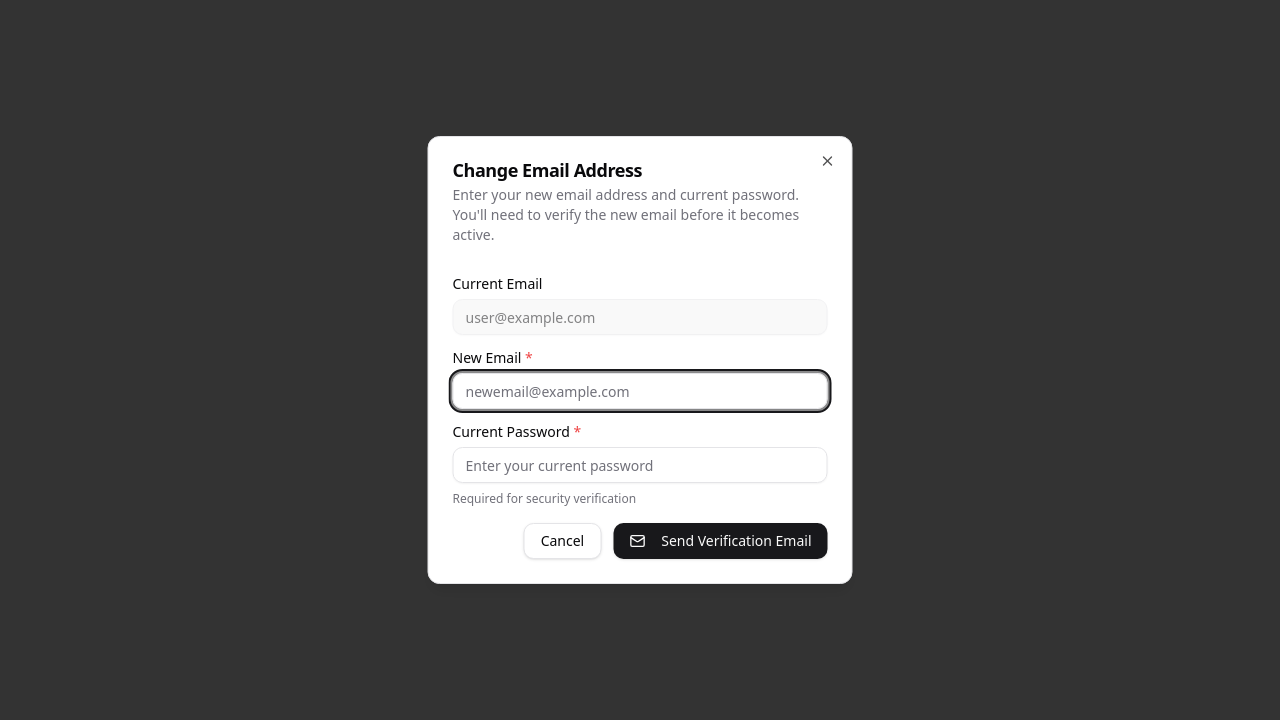
Test: ChangeEmailDialog › validates email format
In the field with id "new-email": (640, 391) [452,373,828,409], type "test@x"
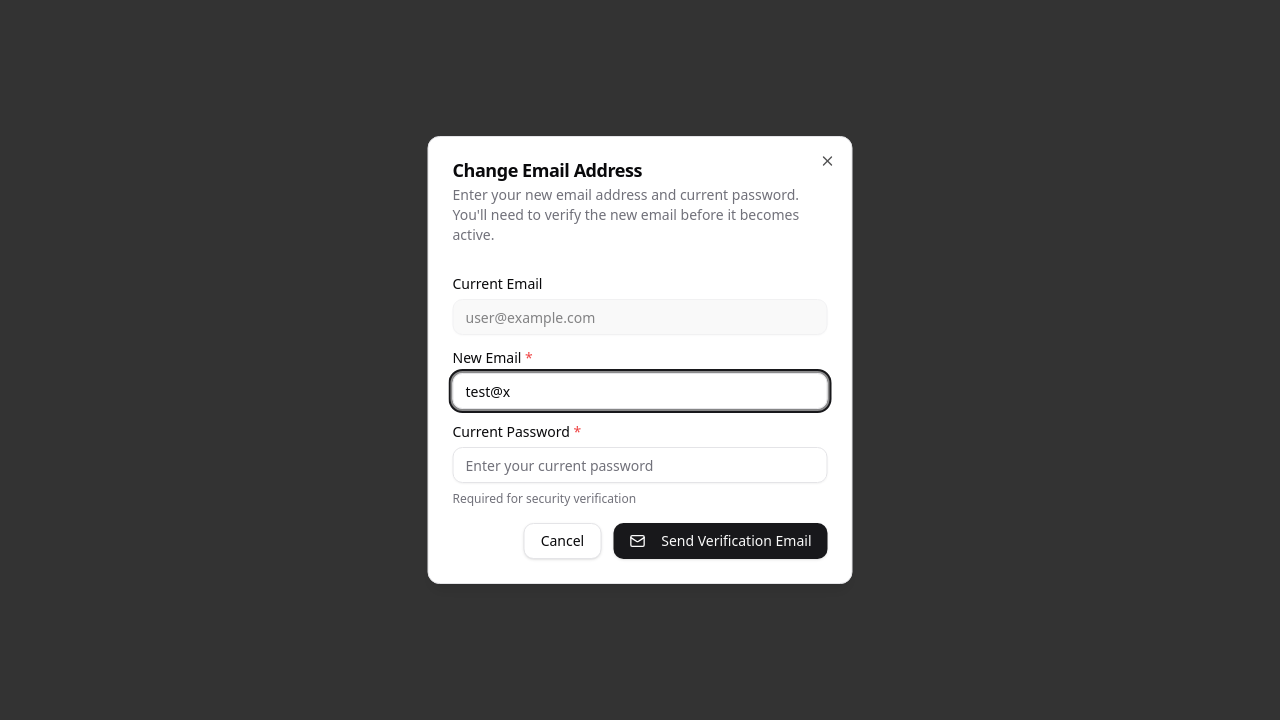
Click the button "Send Verification Email": (720, 541) [613,523,828,559]
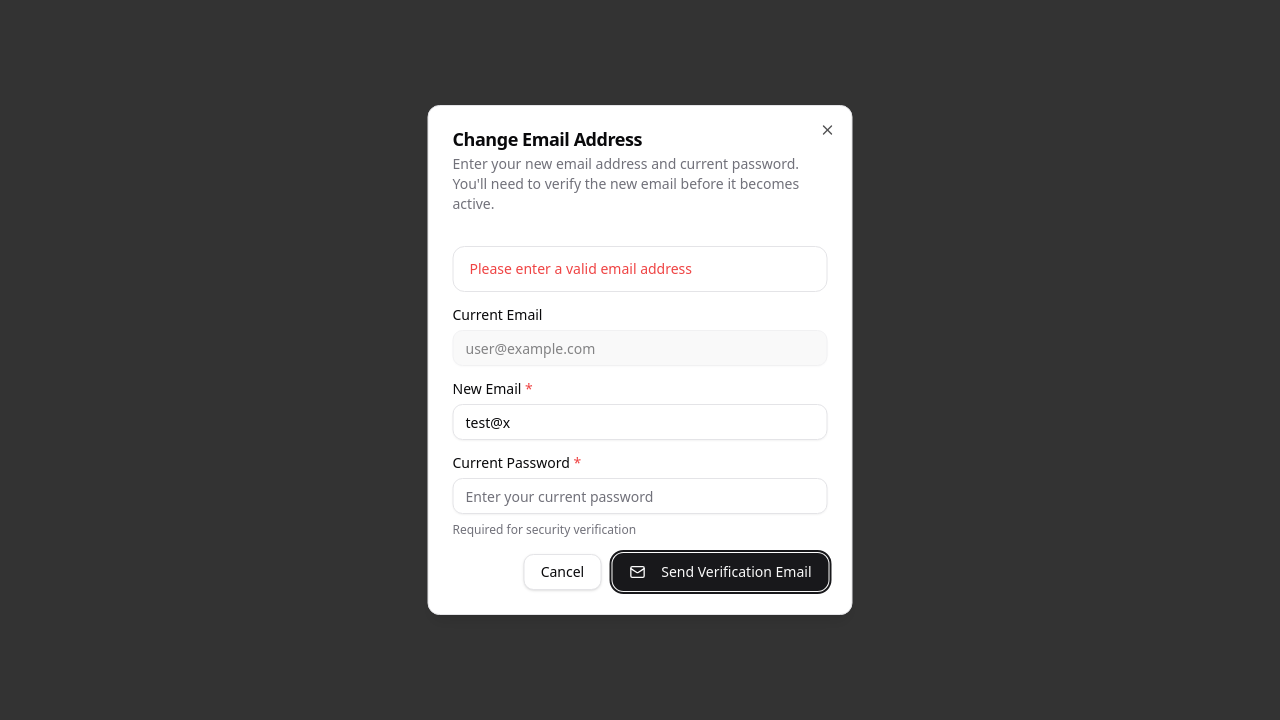
expect the text "Please enter a valid email address" is shown: met, box [470,259,692,278]
